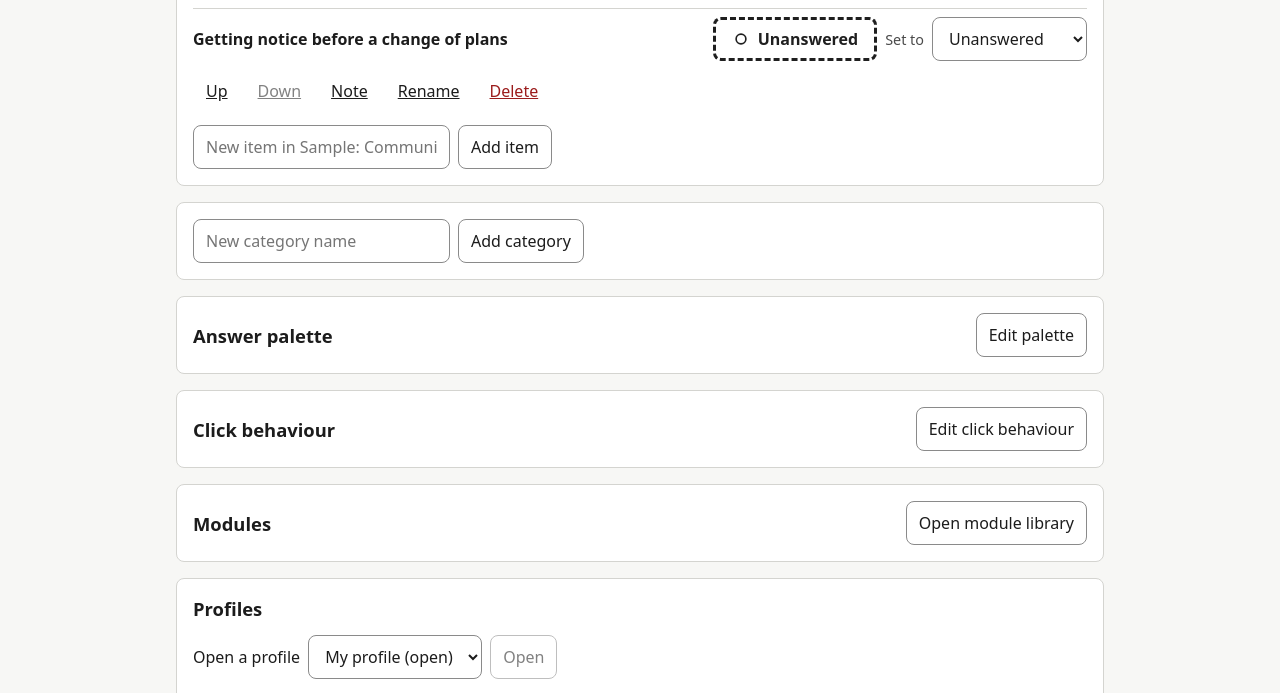
Test: cycle order › disables moving past either end
(page scrolled)
Click the button "Edit palette".
click(1031, 335)  # box x1=976 y1=313 x2=1087 y2=357
(page scrolled)
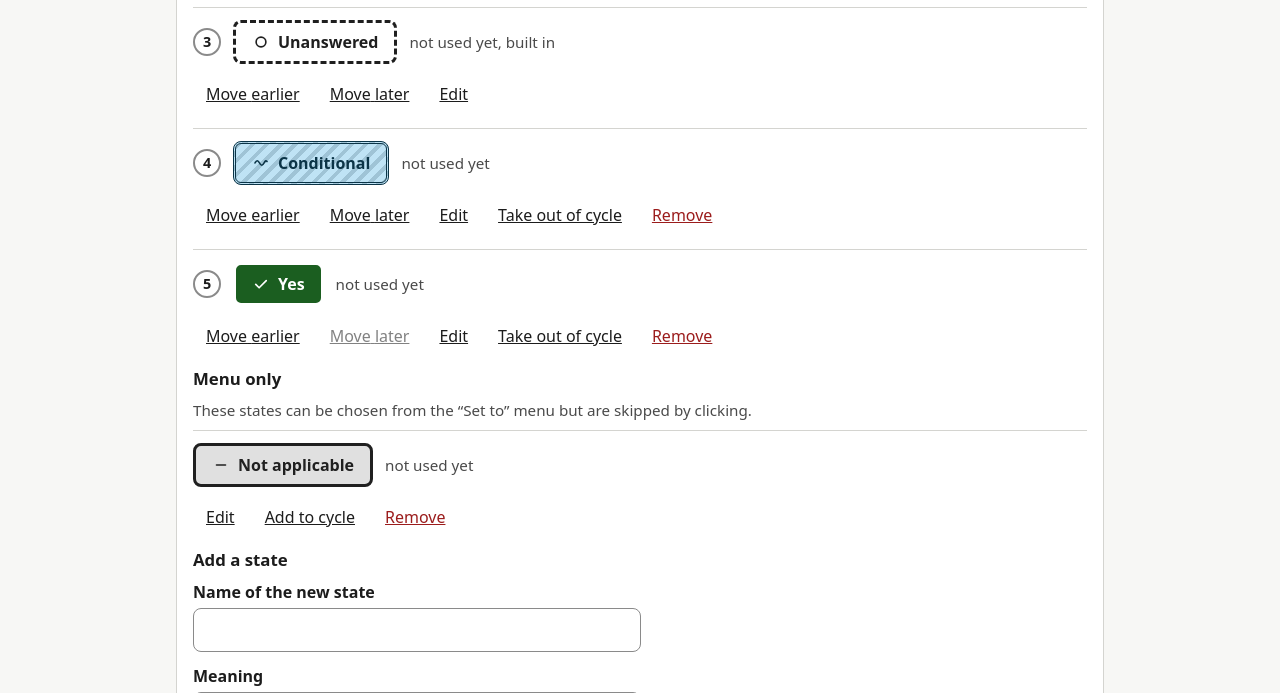
expect the button named "Move Yes later" is disabled: met, box x1=317 y1=314 x2=422 y2=358
expect the button named "Move Yes earlier" is enabled: met, box x1=193 y1=314 x2=313 y2=358
